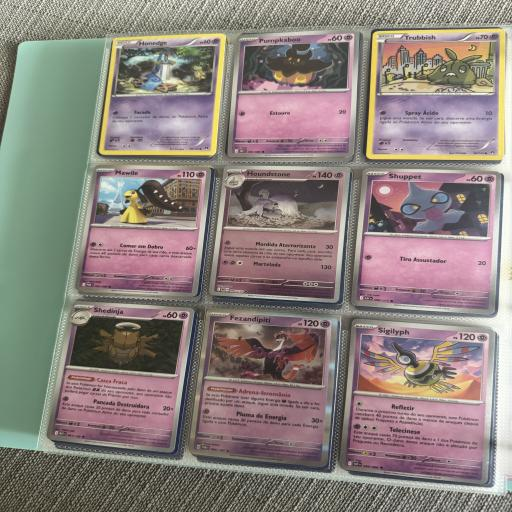card: (339, 317, 501, 484), (189, 303, 340, 467), (46, 294, 194, 453), (351, 162, 504, 315), (209, 159, 351, 303), (75, 160, 212, 297), (366, 27, 505, 160), (227, 29, 359, 157), (99, 33, 226, 156)
